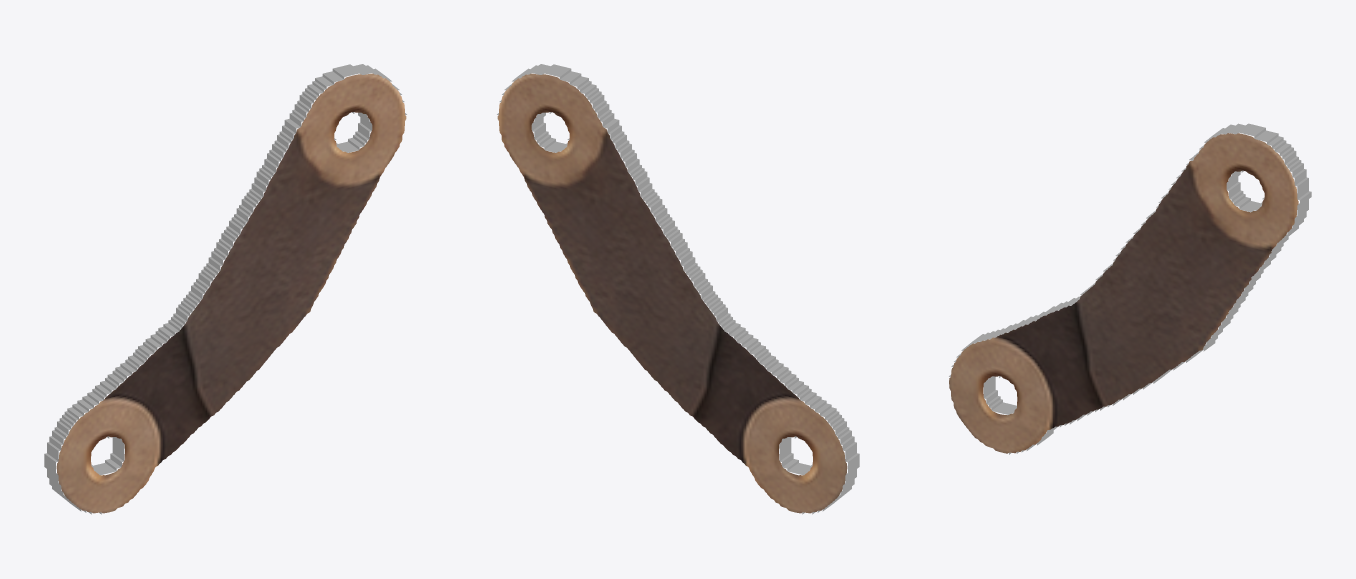
File: Variant02Upper.glb
3 views of the same model, side by side, from view 1: azimuth 30°, elevation 25°; view 2: azimuth 150°, elevation 25°; view 3: azimuth 330°, elevation 25° (orthographic).
Visible parts, largest first — view 1: PaperVolume; view 2: PaperVolume; view 3: PaperVolume.
Part boxes in pixels (box(x1,y1,x2,y2)): PaperVolume: box(44, 64, 406, 514); PaperVolume: box(497, 64, 859, 514); PaperVolume: box(949, 123, 1311, 454).
Size of the model in its own units: 1.63 by 1.67 by 0.08.
3 materials, 2 textured.
